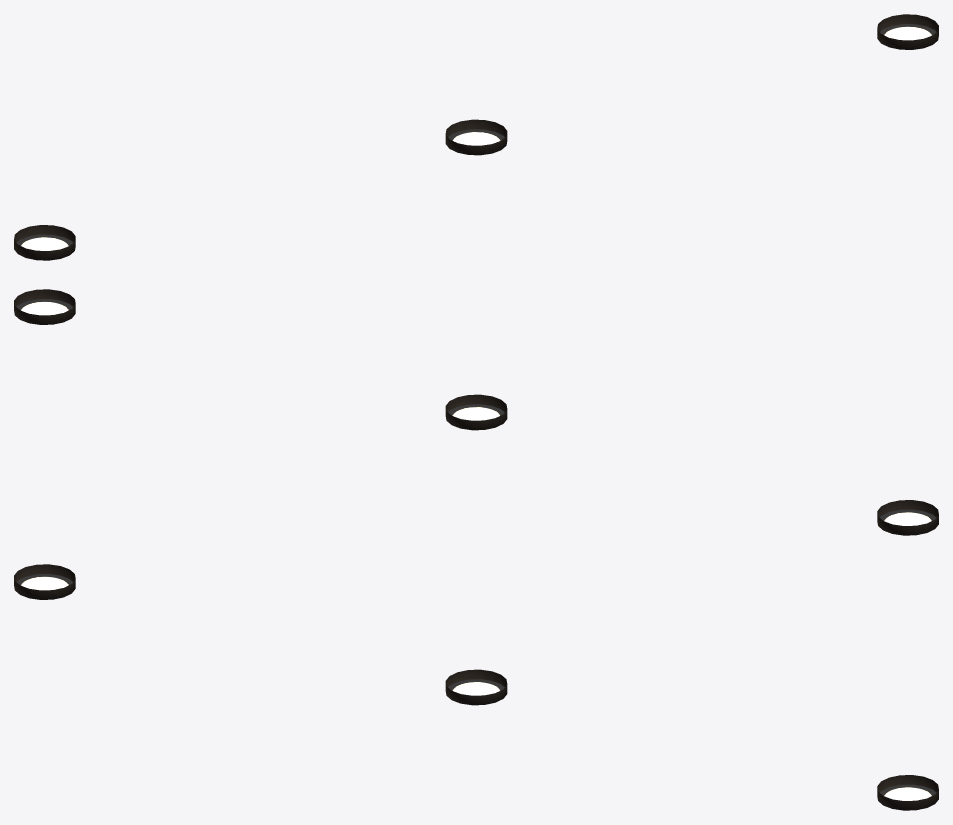
Rendered from led-strip-back.glb.
The picture shows the model from 3 angles, top to bottom: view 1: azimuth 30°, elevation 25°; view 2: azimuth 150°, elevation 25°; view 3: azimuth 330°, elevation 25°; orthographic projection.
Visible parts, largest first — view 1: Sketchfab Model.007_Scene_-_Root_0; view 2: Sketchfab Model.007_Scene_-_Root_0; view 3: Sketchfab Model.007_Scene_-_Root_0.
Boxes of the visible parts, x1,y1,x2,y2 form: Sketchfab Model.007_Scene_-_Root_0: (14,14,938,260); Sketchfab Model.007_Scene_-_Root_0: (14,289,938,535); Sketchfab Model.007_Scene_-_Root_0: (14,564,938,810).
Bounding box in the file's own units: 3.4 × 0.034 × 0.2.
1 material, 1 textured.
